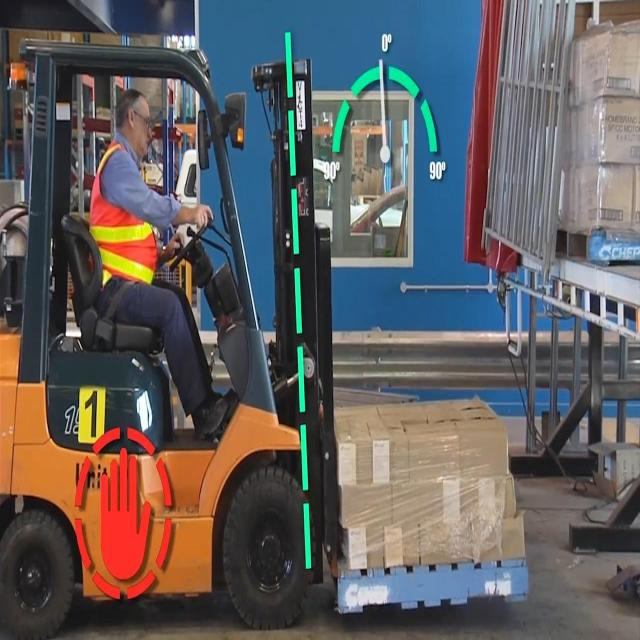box: (326, 365, 537, 588), (555, 7, 640, 240)
forklift: (1, 21, 554, 640)
pallets: (326, 536, 550, 639), (590, 222, 640, 268)
person: (81, 65, 237, 442)
